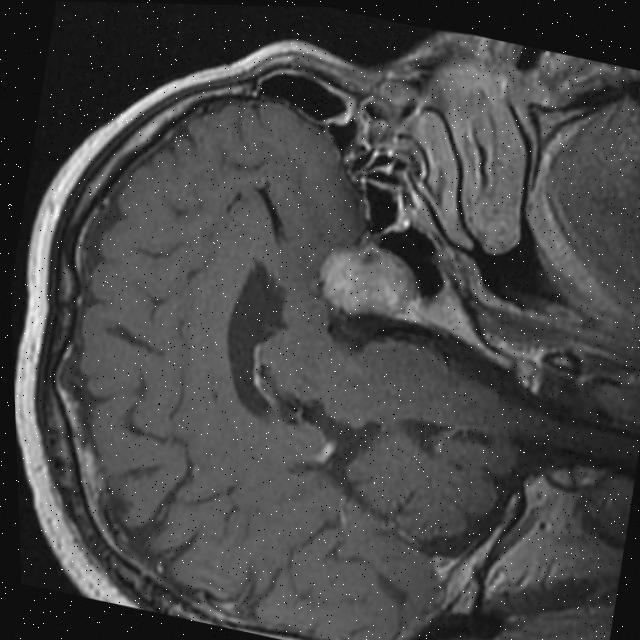Pituitary: (310, 234, 427, 329)
